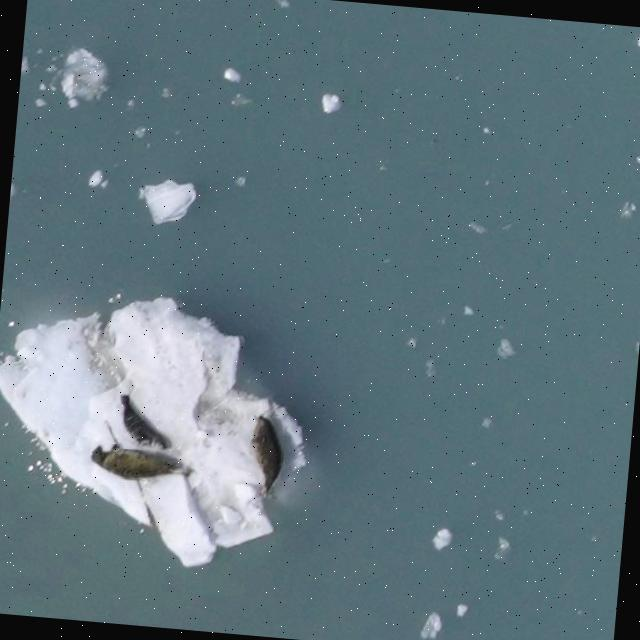seal: (85, 438, 198, 492), (106, 391, 171, 463), (247, 412, 285, 498)
